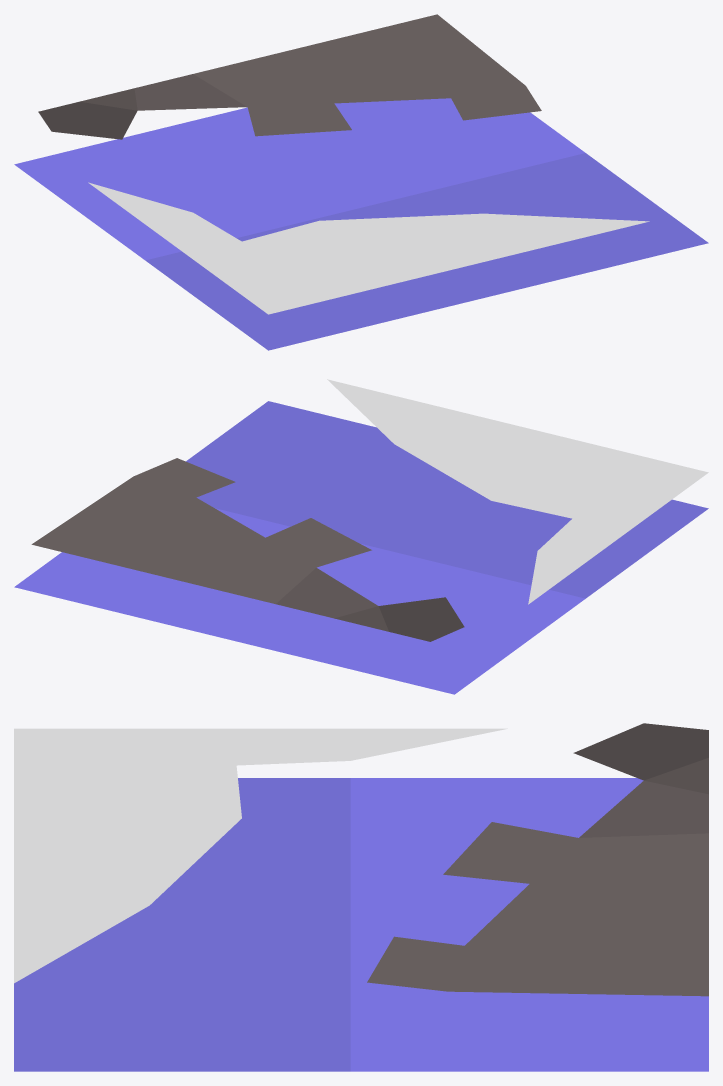
Rendered from inv_sliding_piece_2.obj.
The picture shows the model from 3 angles, top to bottom: view 1: azimuth 30°, elevation 25°; view 2: azimuth 150°, elevation 25°; view 3: azimuth 270°, elevation 25°; orthographic projection. The views are drawn at different scales.
Size of the model in its own units: 1 by 0.1016 by 1.
